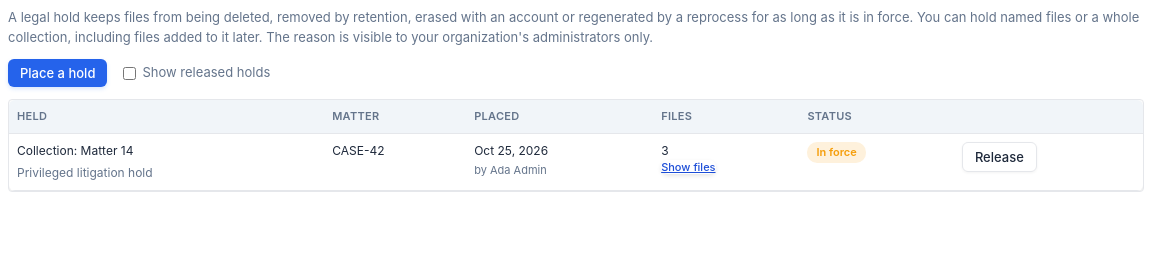
Test case: OrgLegalHoldsPanel › asks for released holds too and offers no Release button on them
Expected: the text "In force" is shown, [807, 142, 866, 163]
Click the checkbox labelled "Show released holds": (130, 73) [123, 66, 136, 80]
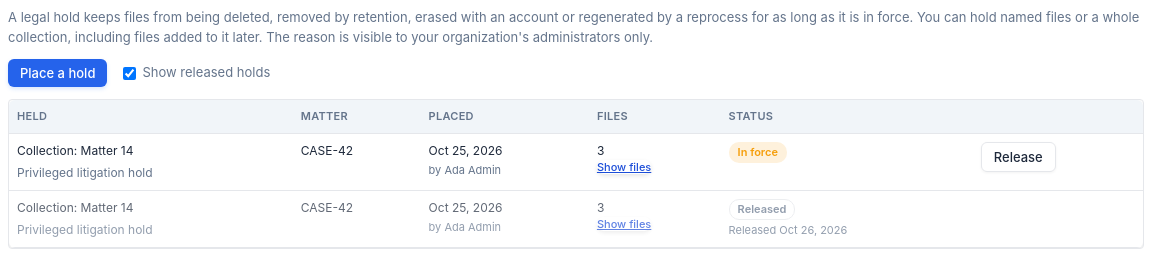
Expected: the number of buttons "Release" is 1, [981, 142, 1056, 172]
Result: the text "Released" is shown at [729, 198, 795, 220]
